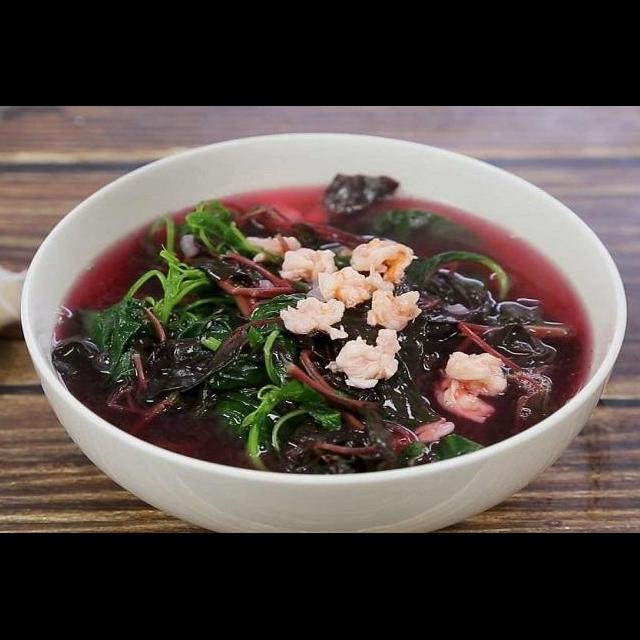thit bam: (238, 224, 426, 396), (421, 347, 508, 428)
